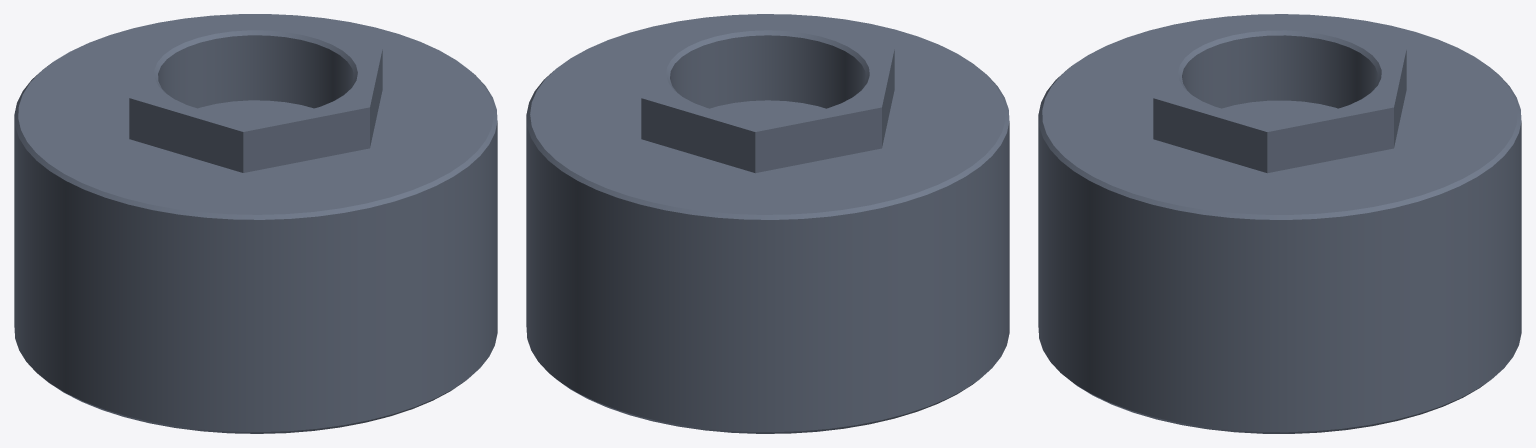
File: generator.fbx
3 renders of one model, left to right at view 1: azimuth 30°, elevation 25°; view 2: azimuth 150°, elevation 25°; view 3: azimuth 270°, elevation 25°, orthographic.
Visible parts, largest first — view 1: Generator; view 2: Generator; view 3: Generator.
Boxes of the visible parts, x1=… form: Generator: x1=14, y1=14, x2=497, y2=433; Generator: x1=526, y1=14, x2=1009, y2=433; Generator: x1=1038, y1=14, x2=1521, y2=433.
Size of the model in its own units: 6.4 by 3.8 by 6.4.
